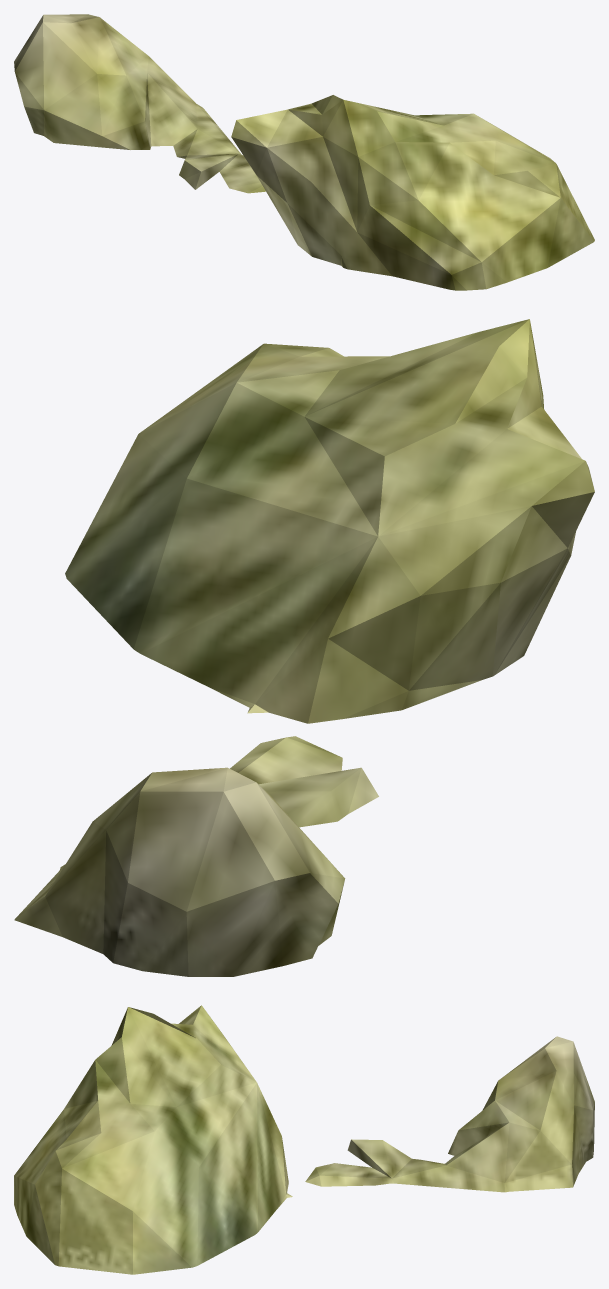
3 renders of one model, top to bottom at view 1: azimuth 30°, elevation 25°; view 2: azimuth 150°, elevation 25°; view 3: azimuth 270°, elevation 25°, orthographic. The views are drawn at different scales.
Size of the model in its own units: 1.84 by 0.8575 by 2.84.
Materials: 1 (1 with a texture image).
